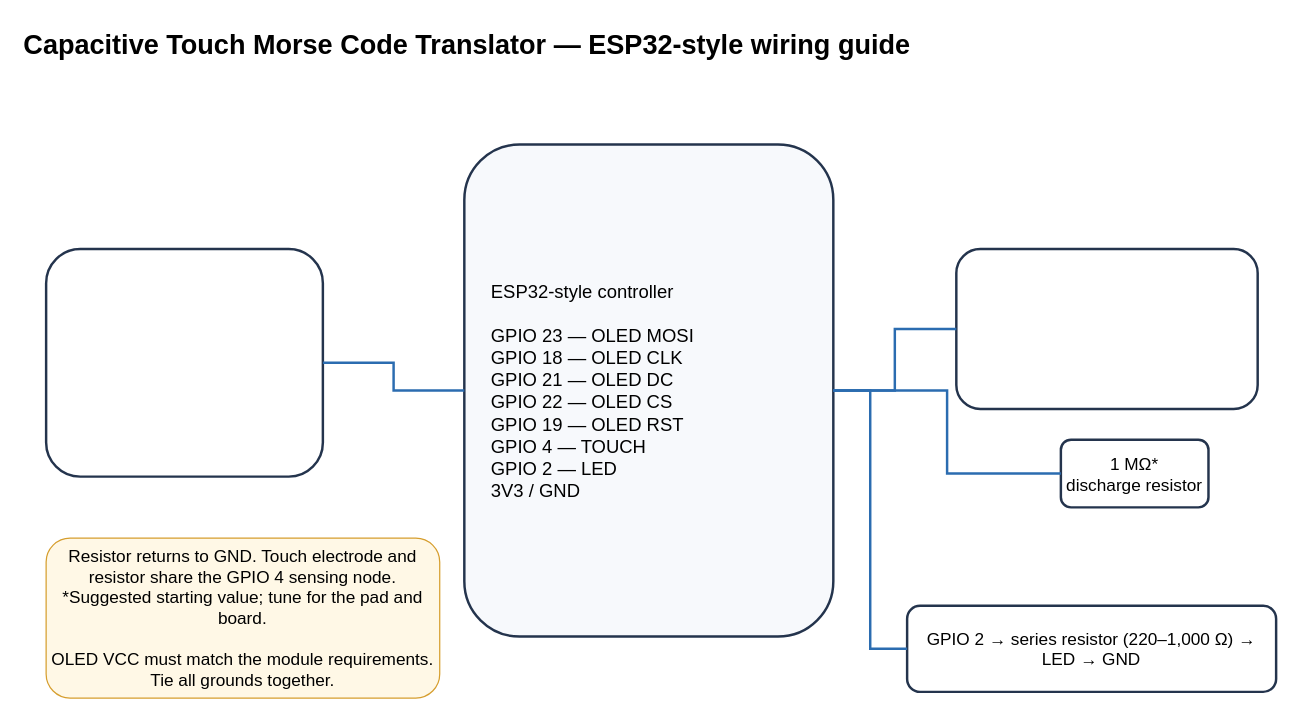
This 1298x720 diagram has some shape labels left out. Each missing label, with the box of its shape:
SSD1306 OLED MOSI CLK / SCK DC CS RES VCC and GND: (44, 247, 323, 477)
Touch pad / electrode Metal foil or conductive pad Keep accessible to fingertip: (954, 247, 1258, 410)
